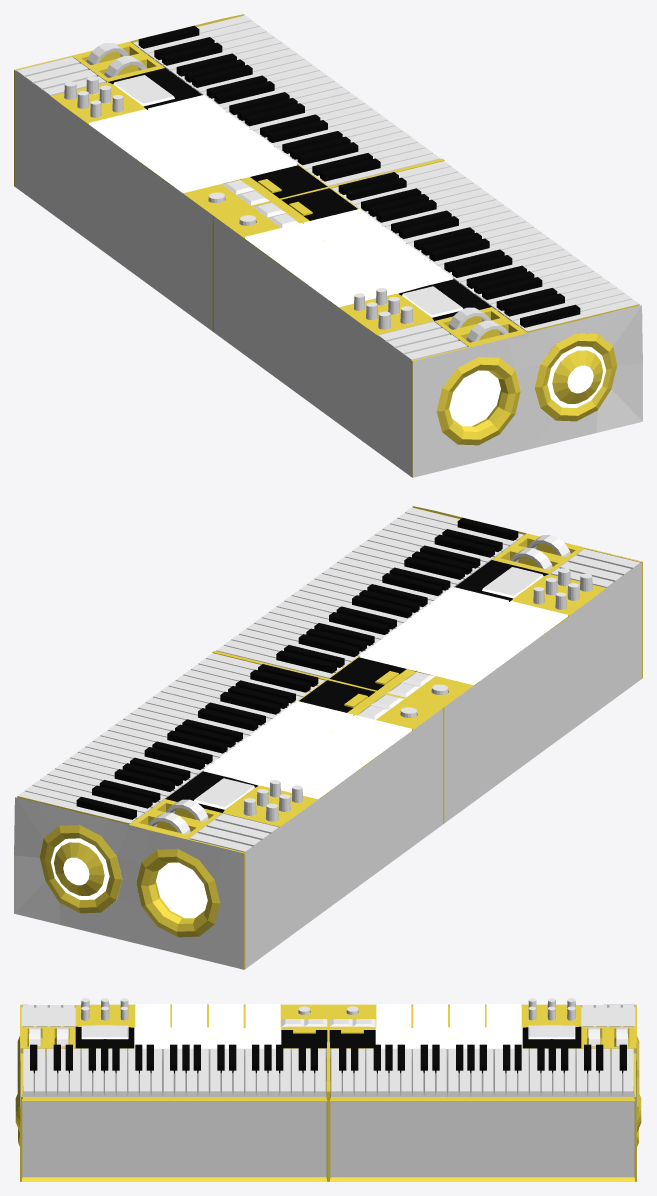
File: 2-lead-synth3.glb
The picture shows the model from 3 angles, top to bottom: view 1: azimuth 30°, elevation 25°; view 2: azimuth 150°, elevation 25°; view 3: azimuth 270°, elevation 25°; orthographic projection. The views are drawn at different scales.
Parts seen in each view (by area): view 1: Cube.004; view 2: Cube.004; view 3: Cube.004.
Part boxes in pixels (left/top/right/bottom): Cube.004: left=14, top=14, right=642, bottom=477; Cube.004: left=14, top=506, right=642, bottom=969; Cube.004: left=14, top=998, right=642, bottom=1181.
Bounding box in the file's own units: 1.35 × 0.7239 × 4.12.
